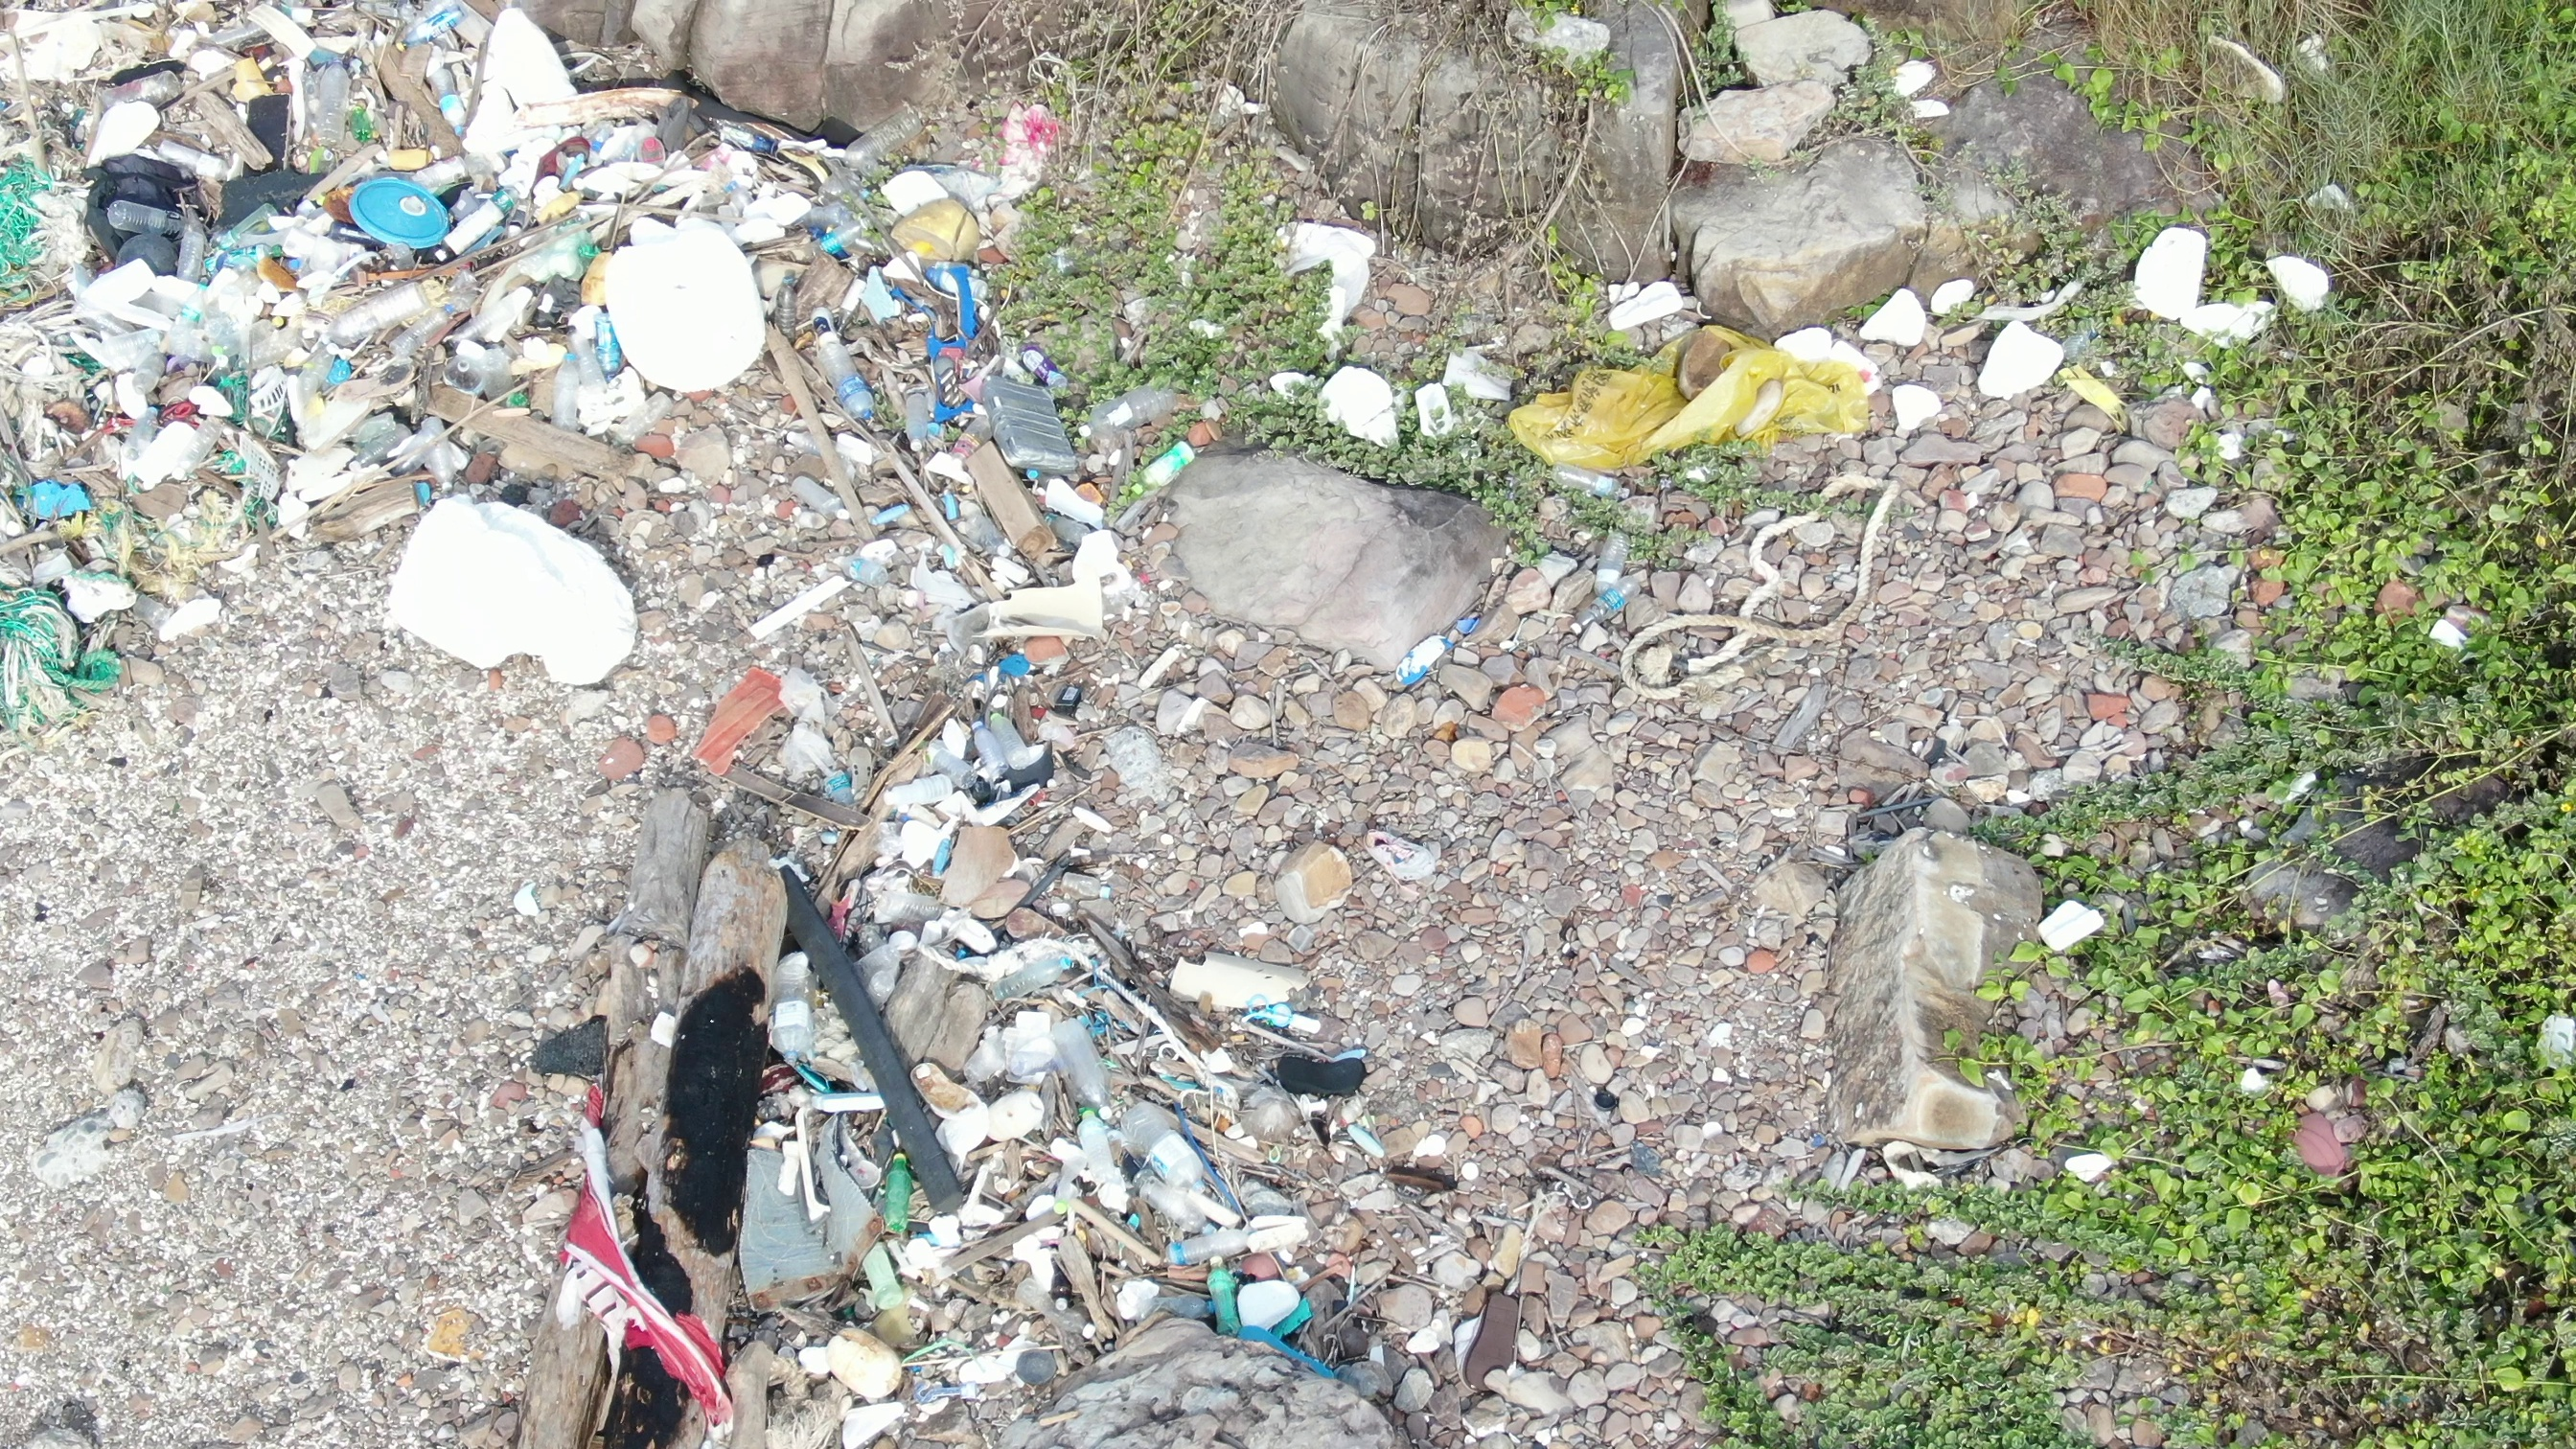bottle: (318, 269, 456, 350), (1051, 1005, 1127, 1132), (433, 168, 531, 260), (805, 315, 878, 430), (1194, 1256, 1263, 1371), (301, 41, 361, 170), (977, 945, 1104, 1005), (839, 94, 934, 170), (1072, 382, 1205, 435), (980, 694, 1056, 782), (1564, 563, 1656, 635), (778, 945, 823, 1090), (872, 1138, 913, 1247), (428, 48, 471, 143), (966, 708, 1017, 786), (101, 191, 188, 237), (805, 212, 870, 272), (890, 375, 931, 460), (587, 301, 625, 393), (1139, 435, 1201, 490), (1541, 465, 1637, 497), (1168, 1224, 1253, 1260), (1598, 506, 1628, 594)
garbage: (2, 2, 1214, 701), (472, 651, 1407, 1449), (1217, 200, 2348, 697)
